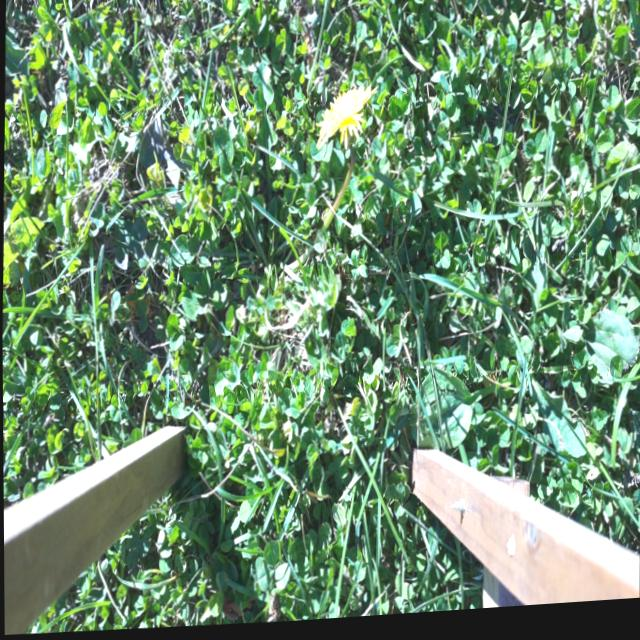base: (263, 258, 294, 307)
